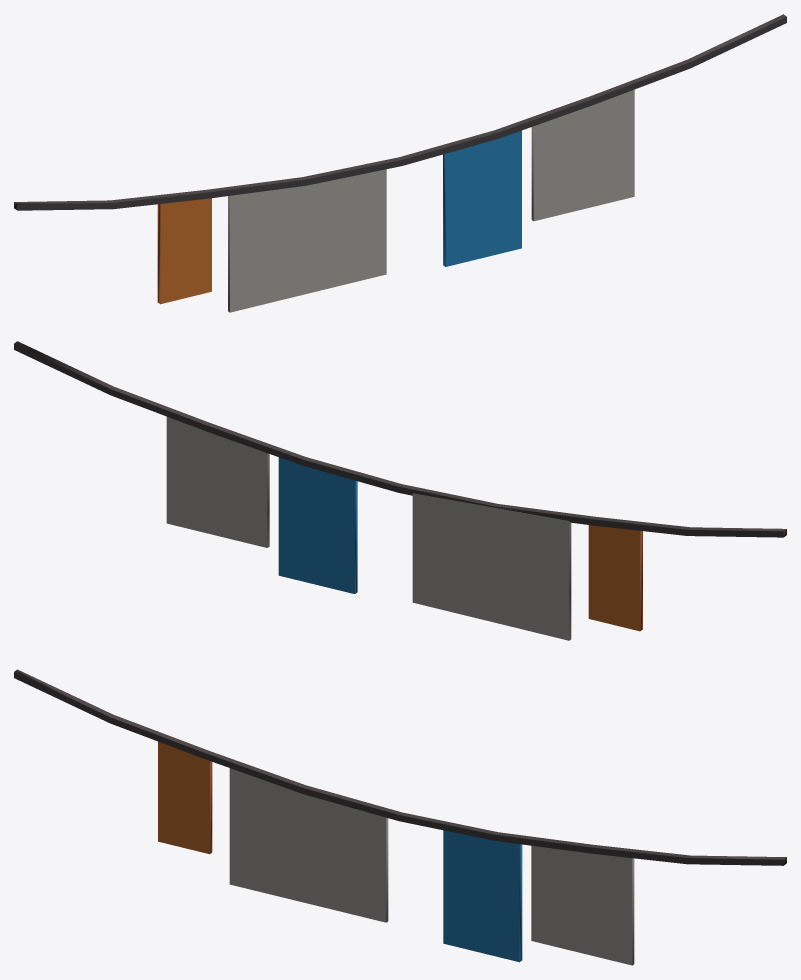
Rendered from apoc_prop_6.glb.
3 renders of one model, top to bottom at view 1: azimuth 30°, elevation 25°; view 2: azimuth 150°, elevation 25°; view 3: azimuth 330°, elevation 25°, orthographic.
Visible parts, largest first — view 1: prop_006; view 2: prop_006; view 3: prop_006.
Part boxes in pixels (x1,y1,x2,y2): prop_006: (14,14,786,312); prop_006: (14,341,786,640); prop_006: (14,669,786,965).
Size of the model in its own units: 1.04 by 0.2163 by 0.0085.
Materials: 1 (1 with a texture image).
